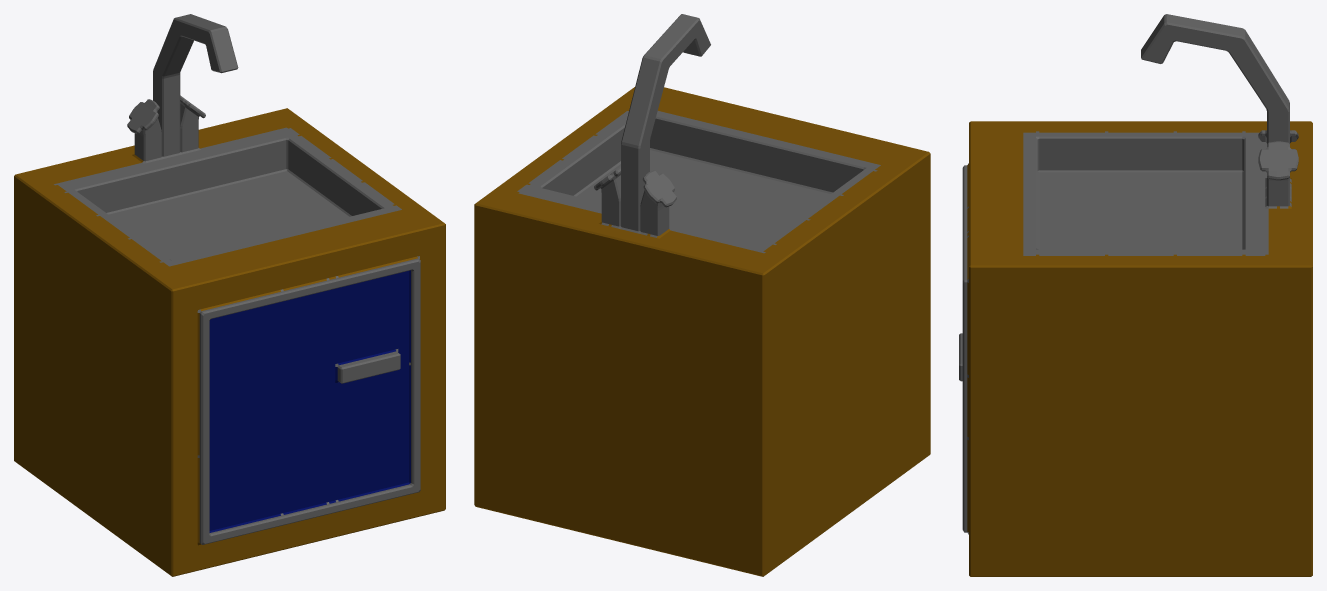
Rendered from Sink.fbx.
3 renders of one model, left to right at view 1: azimuth 30°, elevation 25°; view 2: azimuth 150°, elevation 25°; view 3: azimuth 270°, elevation 25°, orthographic. The views are drawn at different scales.
Visible parts, largest first — view 1: Cube.001; view 2: Cube.001; view 3: Cube.001.
Part boxes in pixels (<box>): Cube.001: <box>14,14,445,576</box>; Cube.001: <box>474,14,930,576</box>; Cube.001: <box>959,14,1312,576</box>.
Size of the model in its own units: 1.54 by 2.41 by 1.59.
